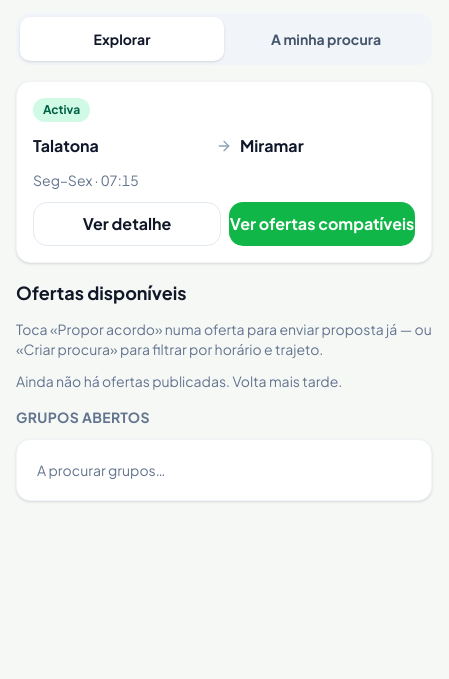
PassengerDashboard — marketplace › oferta flexível compatível mostra «Oferta flexível» sem Origem/Destino fictícios
The width and height of the screenshot is (449, 679).
What coordinates should you click on to do the following:
click the tab "A minha procura"
I would click on:
 (326, 39)
Its box is [224,17,428,61].
(page scrolled)
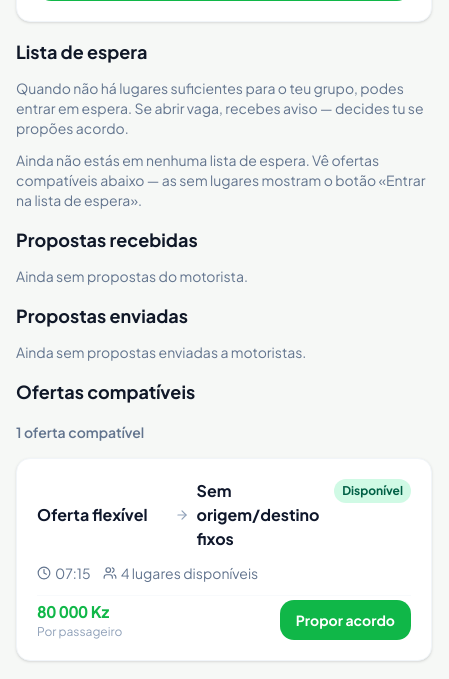
expect the text "Oferta flexível" is shown: met, box [37,503,167,527]
